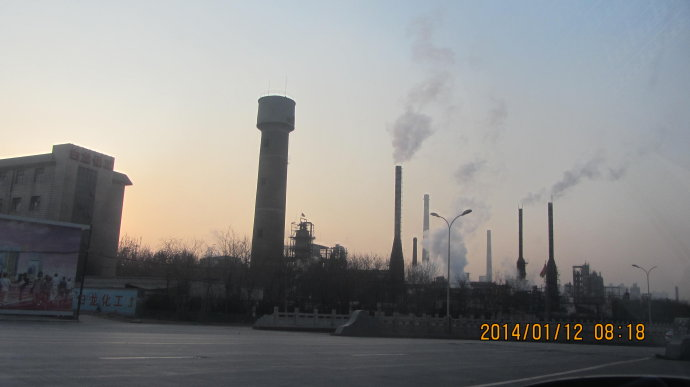dust: (519, 154, 621, 216), (419, 198, 483, 285), (382, 97, 438, 170)
